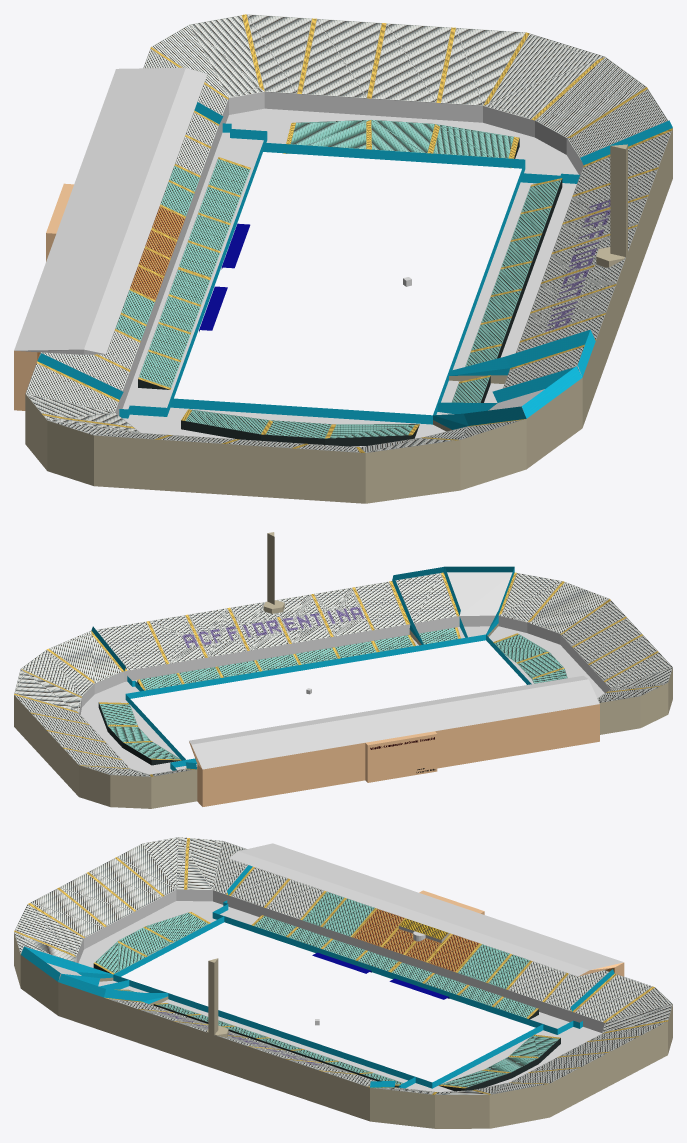
Rendered from ArtemioFranchibeta.glb.
3 renders of one model, top to bottom at view 1: azimuth 30°, elevation 25°; view 2: azimuth 150°, elevation 25°; view 3: azimuth 270°, elevation 25°, orthographic. The views are drawn at different scales.
Parts seen in each view (by area): view 1: _(Loose Entity); view 2: _(Loose Entity); view 3: _(Loose Entity).
Boxes of the visible parts, box(x1,y1,x2,y2) form: _(Loose Entity): box(14, 14, 672, 503); _(Loose Entity): box(14, 532, 672, 808); _(Loose Entity): box(14, 837, 672, 1128).
Size of the model in its own units: 268 by 52.36 by 289.
17 materials, 7 textured.
